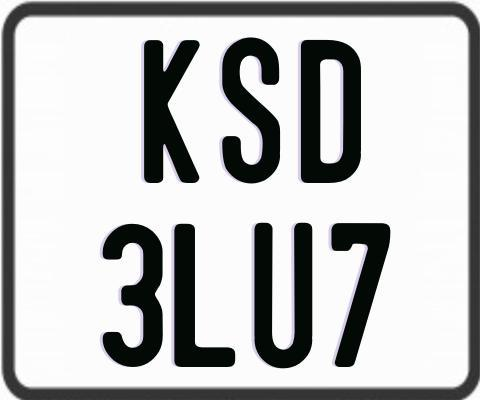3: (101, 221, 162, 370)
7: (330, 220, 389, 367)
D: (299, 39, 362, 184)
K: (141, 37, 199, 180)
L: (173, 222, 239, 371)
S: (219, 37, 280, 187)
U: (251, 222, 309, 373)
